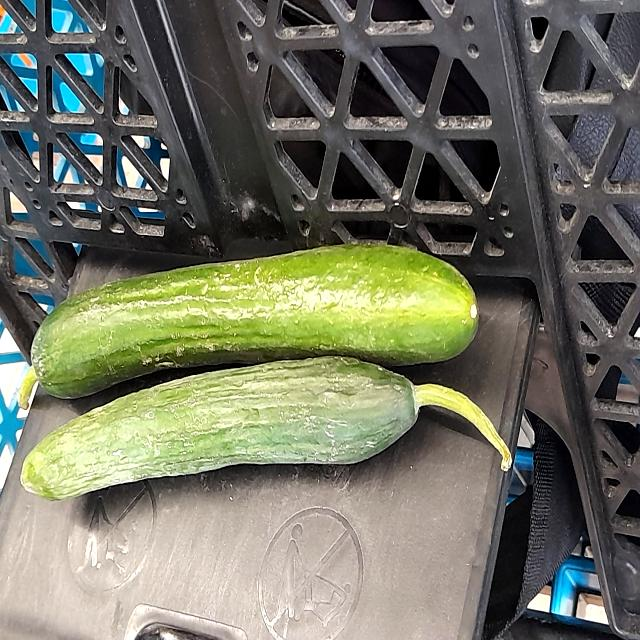cucumber: (20, 349, 528, 517), (26, 234, 498, 399)
